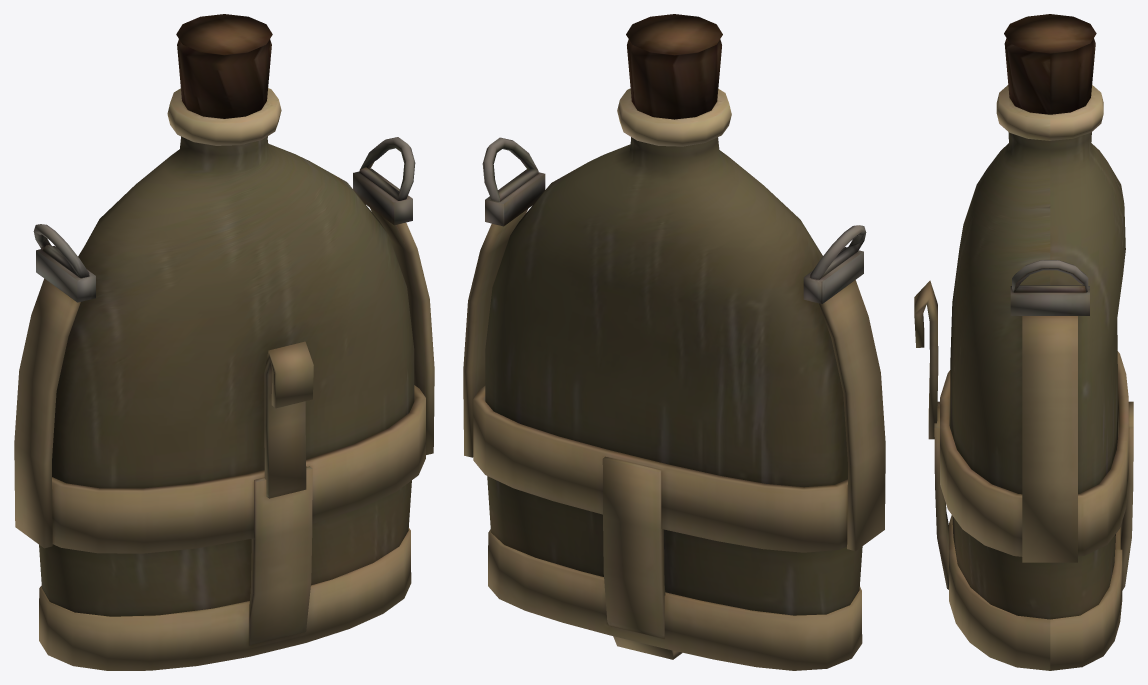
File: canteen.glb
3 renders of one model, left to right at view 1: azimuth 30°, elevation 25°; view 2: azimuth 150°, elevation 25°; view 3: azimuth 270°, elevation 25°, orthographic. The views are drawn at different scales.
Visible parts, largest first — view 1: Canteen; view 2: Canteen; view 3: Canteen.
Boxes of the visible parts, x1,y1,x2,y2 form: Canteen: [14, 14, 434, 670]; Canteen: [463, 14, 885, 670]; Canteen: [914, 14, 1133, 670].
Bounding box in the file's own units: 0.1476 × 0.2141 × 0.0746.
Materials: 1 (1 with a texture image).
